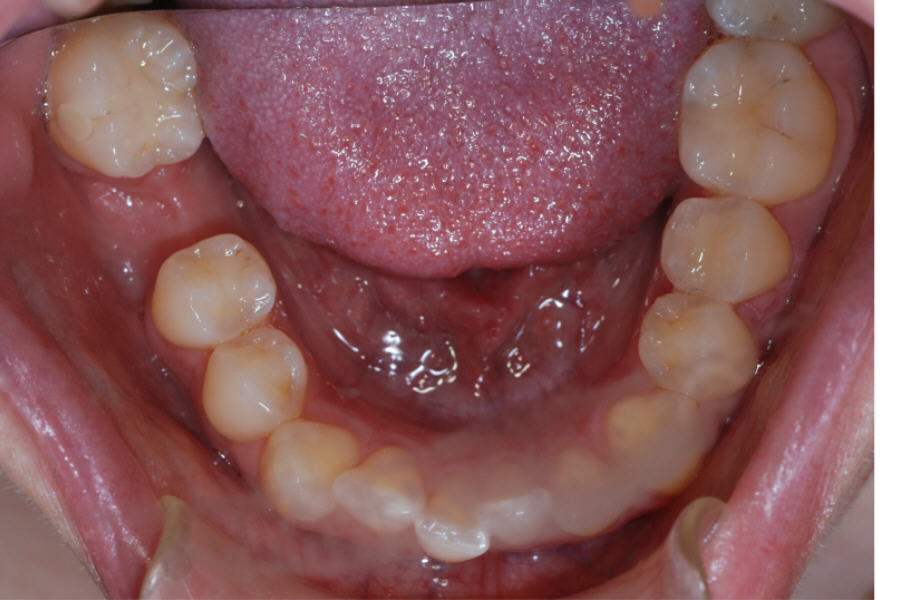LL1BC_healthy: (634, 295, 761, 398)
LL1M_decay: (674, 41, 839, 203)
LL2BC_healthy: (659, 190, 793, 301)
LL2M_decay: (699, 1, 854, 39)
LLCI_healthy: (481, 465, 556, 552)
LLC_healthy: (602, 392, 718, 495)
LLLI_healthy: (548, 447, 631, 551)
LR1BC_healthy: (203, 327, 309, 438)
LR2BC_healthy: (148, 233, 280, 348)
LR2M_healthy: (45, 8, 205, 178)
LRCI_healthy: (414, 473, 489, 571)
LRC_healthy: (253, 421, 361, 529)
LRLI_healthy: (331, 446, 427, 534)
